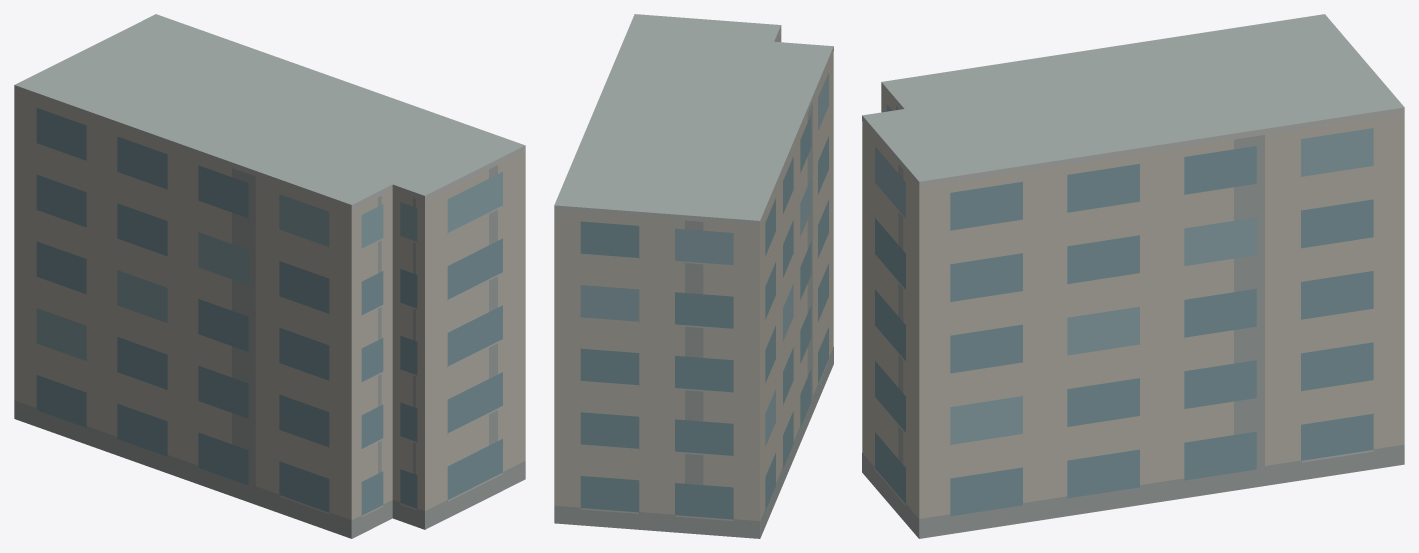
File: residential-a06658b4-bd43-4c0c-a4c3-29f90883c59c.glb
The picture shows the model from 3 angles, left to right: view 1: azimuth 30°, elevation 25°; view 2: azimuth 150°, elevation 25°; view 3: azimuth 270°, elevation 25°; orthographic projection. The views are drawn at different scales.
Visible parts, largest first — view 1: residential-a06658b4-bd43-4c0c-a4c3-29f90883c59c.tmp; view 2: residential-a06658b4-bd43-4c0c-a4c3-29f90883c59c.tmp; view 3: residential-a06658b4-bd43-4c0c-a4c3-29f90883c59c.tmp.
Boxes of the visible parts, left/top/right/bottom form: residential-a06658b4-bd43-4c0c-a4c3-29f90883c59c.tmp: left=14, top=14, right=525, bottom=538; residential-a06658b4-bd43-4c0c-a4c3-29f90883c59c.tmp: left=554, top=14, right=833, bottom=538; residential-a06658b4-bd43-4c0c-a4c3-29f90883c59c.tmp: left=862, top=14, right=1404, bottom=538.
Size of the model in its own units: 14.52 by 14.4 by 19.84.
